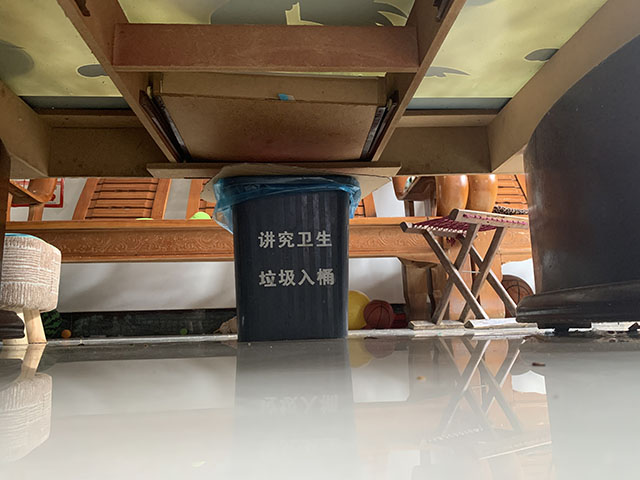sofa: (6, 165, 533, 321)
stool: (399, 208, 538, 331), (1, 232, 63, 343)
table: (1, 1, 638, 342)
trashcan: (208, 173, 362, 344)
